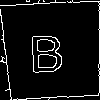B: (27, 25, 66, 73)
